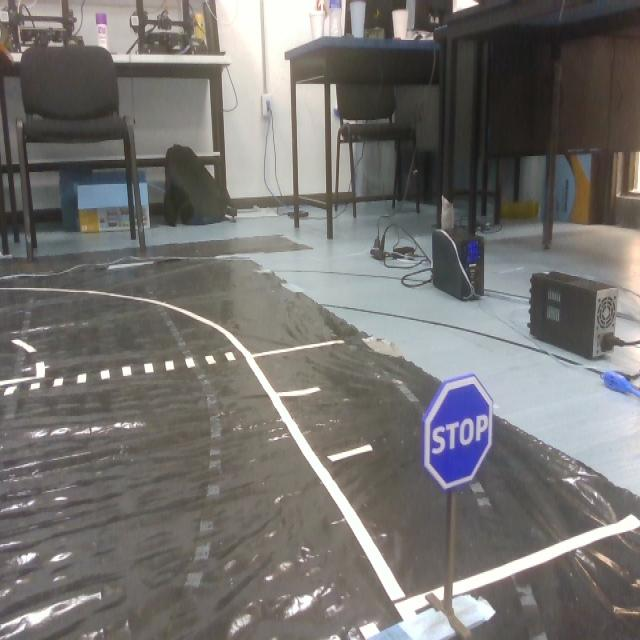no_entry: (431, 378, 508, 494)
